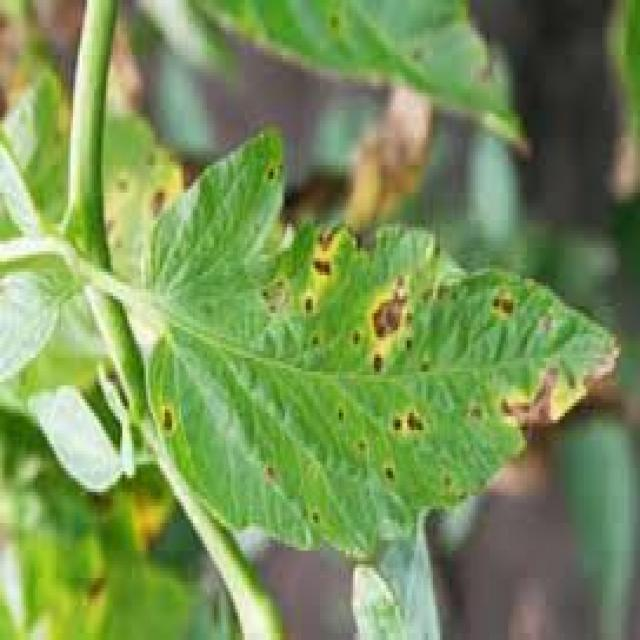Bacterial Spot: (249, 243, 576, 491)
